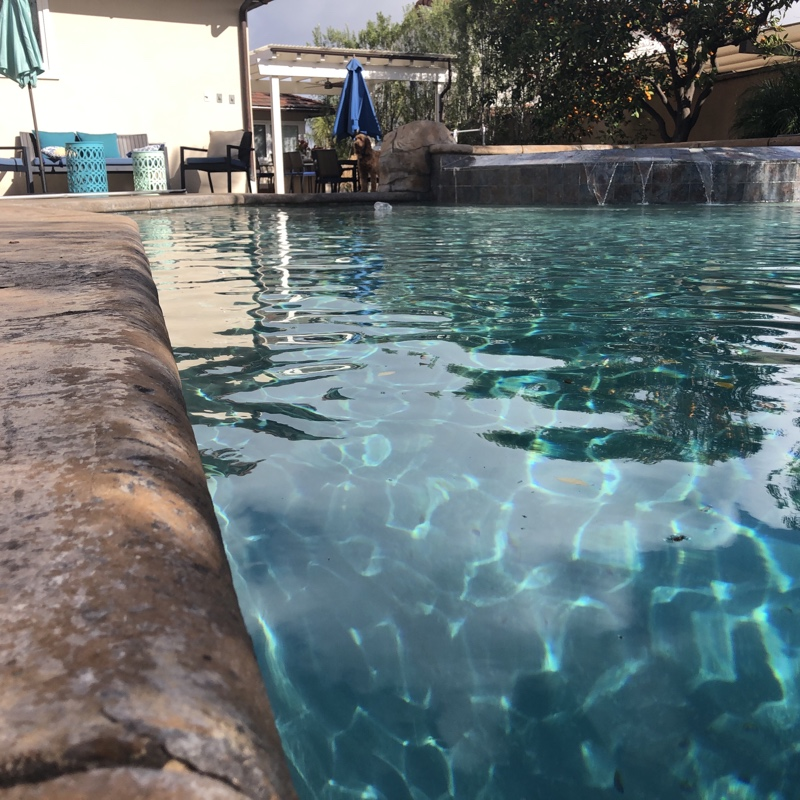Plastic Bottle: (372, 196, 393, 218)
